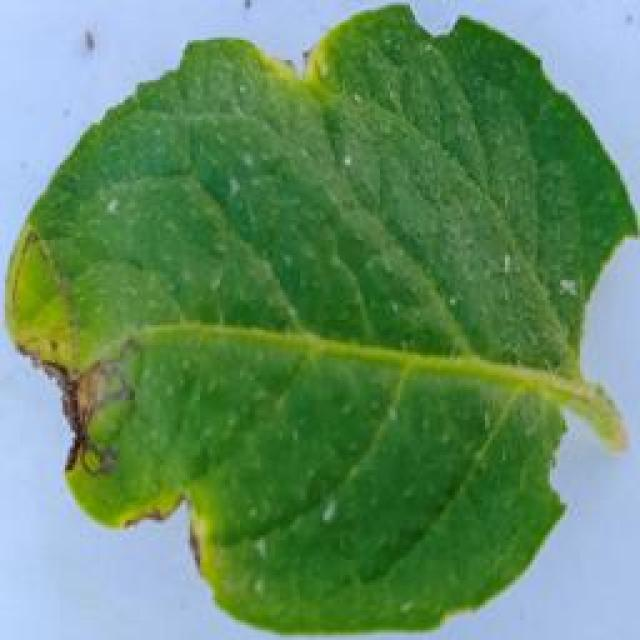Potato_Late_Blight: (10, 10, 635, 628)
